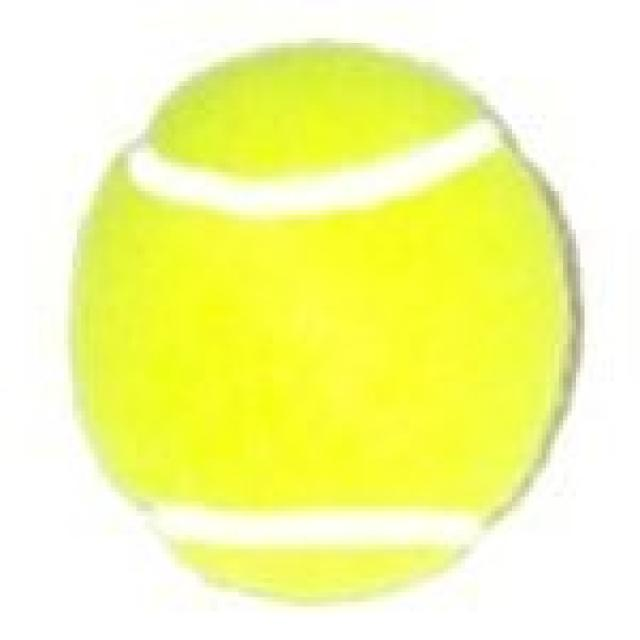Tennis Ball: (64, 38, 585, 607)
